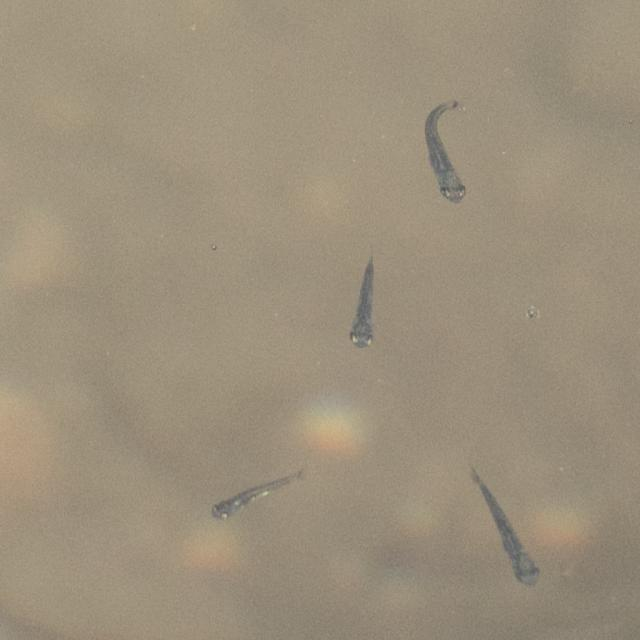Sivrisinek Baligi: (466, 461, 546, 590), (212, 464, 306, 528), (422, 96, 471, 205), (344, 246, 380, 350)
